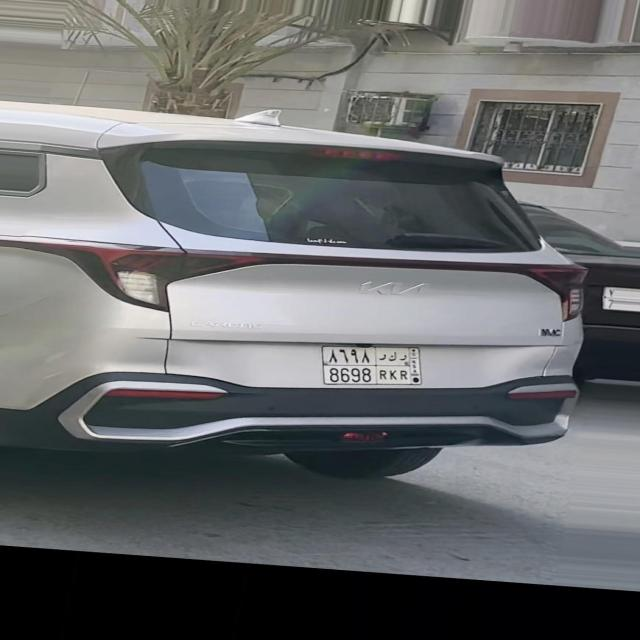Car-plate: (315, 340, 439, 391)
